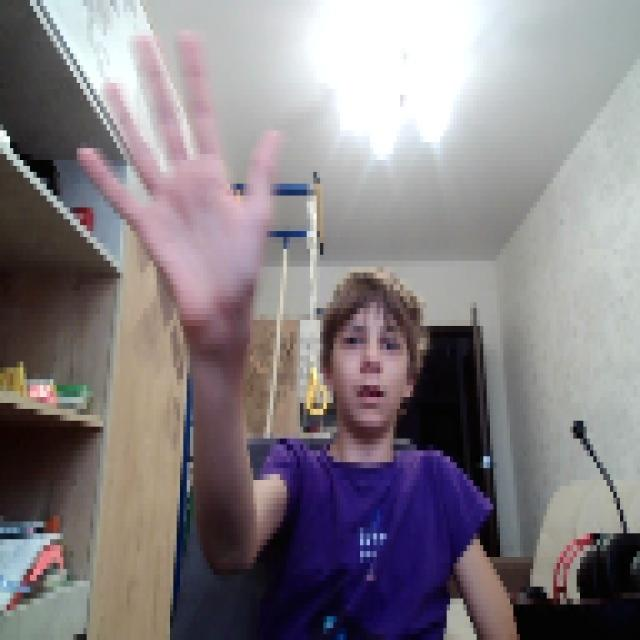hand: (73, 18, 280, 332)
